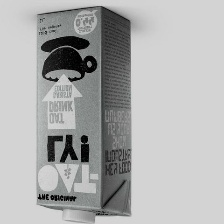carton: (23, 3, 148, 224)
